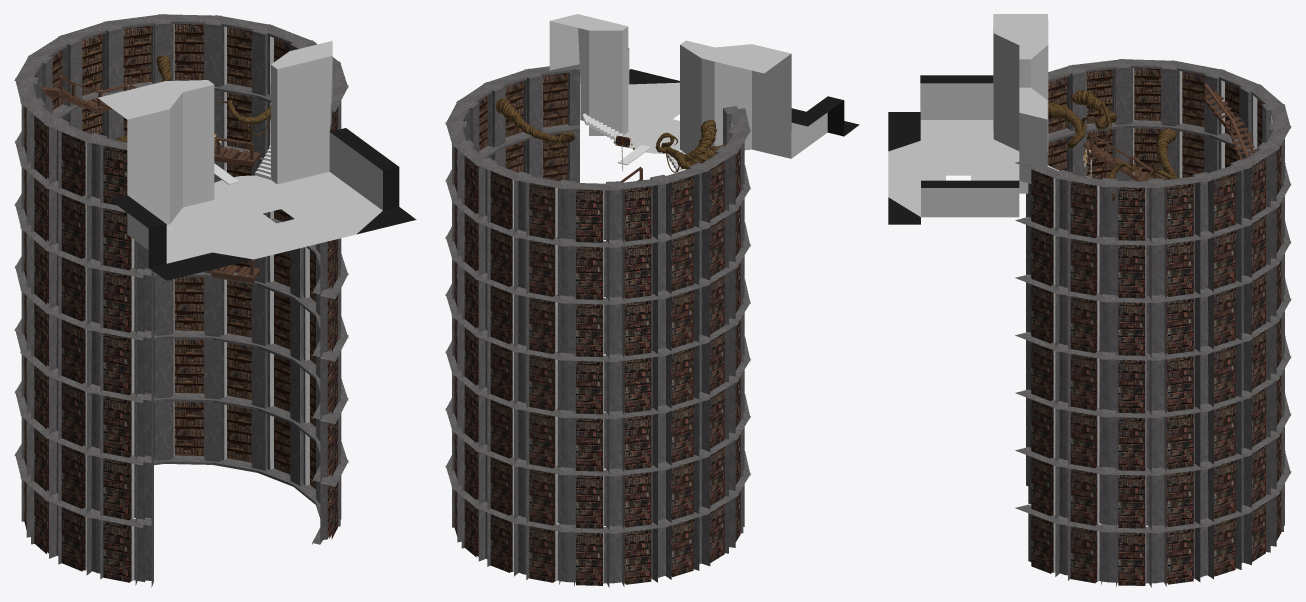
File: Stage.fbx
3 renders of one model, left to right at view 1: azimuth 30°, elevation 25°; view 2: azimuth 150°, elevation 25°; view 3: azimuth 270°, elevation 25°, orthographic. The views are drawn at different scales.
Visible parts, largest first — view 1: Tower, Stage; view 2: Tower, Stage; view 3: Tower, Stage.
Part boxes in pixels (box(x1,y1,x2,y2)): Tower: box(14, 14, 348, 587); Stage: box(98, 41, 416, 280); Tower: box(445, 64, 750, 587); Stage: box(549, 14, 859, 158); Tower: box(1015, 59, 1291, 587); Stage: box(888, 14, 1048, 224).
Size of the model in its own units: 3098 by 4954 by 3989.
